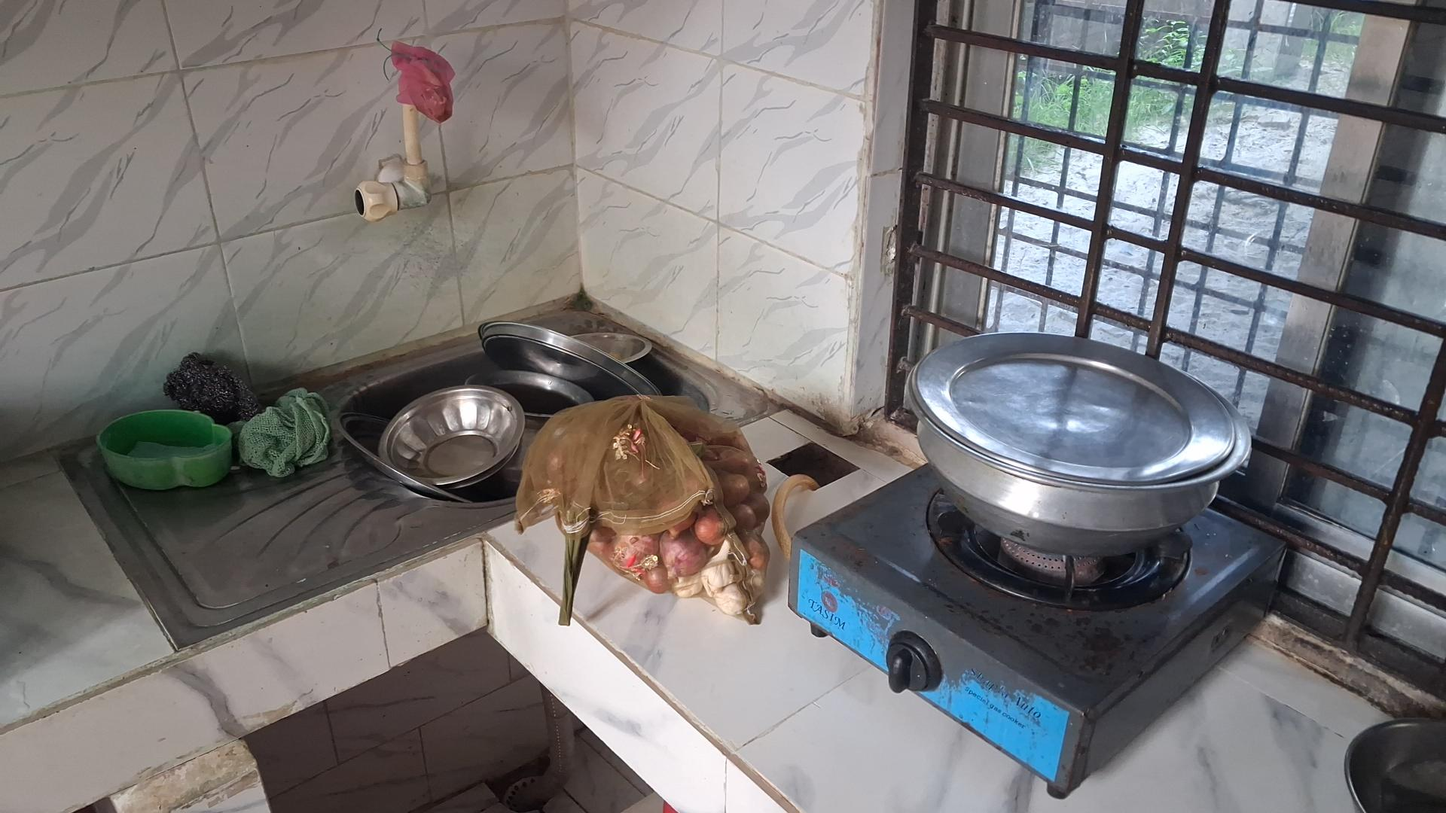Bowl: (379, 387, 522, 492)
Cup: (355, 181, 397, 221)
Food: (549, 430, 777, 630)
Jar: (96, 408, 234, 491)
Pot: (908, 325, 1252, 558)
